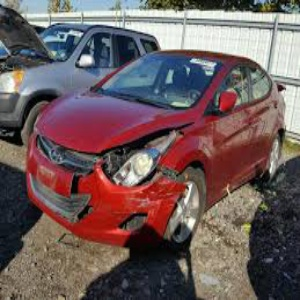bumper: (87, 173, 188, 242)
